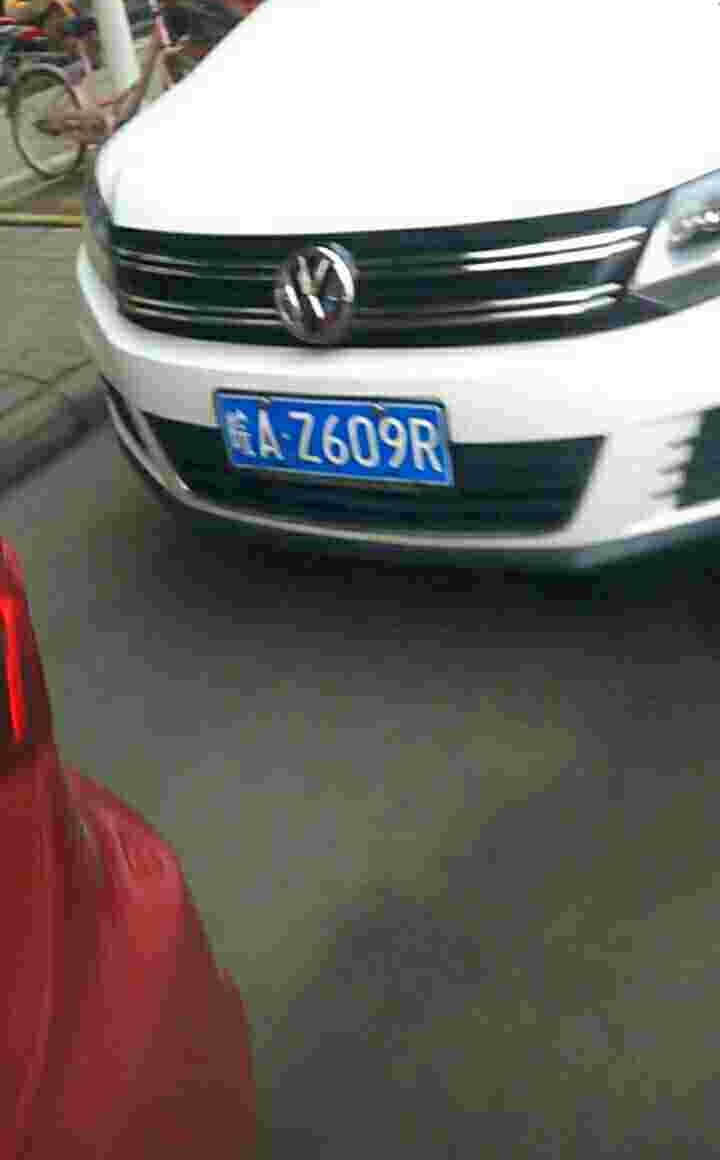license_plate: (221, 400, 457, 488)
